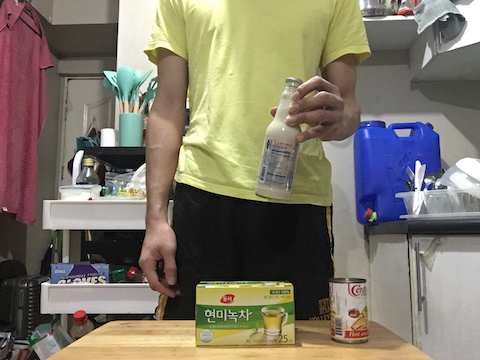bottle: (250, 72, 311, 207)
box: (191, 276, 300, 351)
can: (326, 275, 373, 346)
grab: (283, 74, 347, 145)
